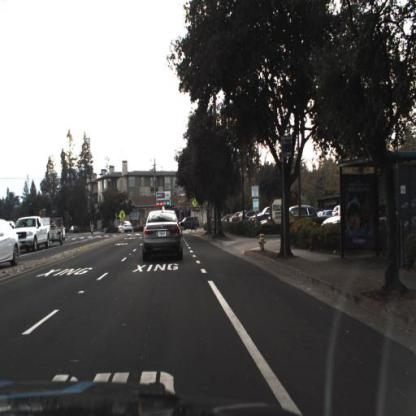car: (143, 205, 184, 264), (15, 217, 64, 251), (1, 217, 21, 269), (286, 198, 321, 227), (251, 203, 274, 229), (180, 212, 202, 238), (117, 213, 135, 241), (331, 197, 343, 230), (119, 214, 134, 237), (71, 223, 82, 236)
